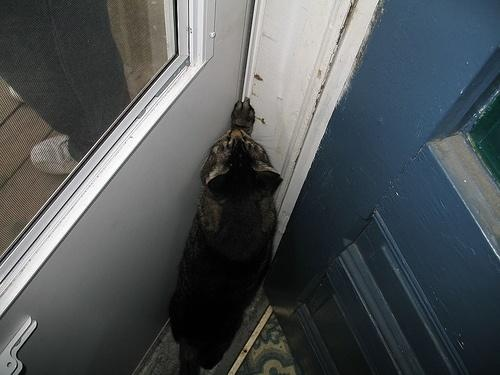cat: (164, 97, 281, 375)
